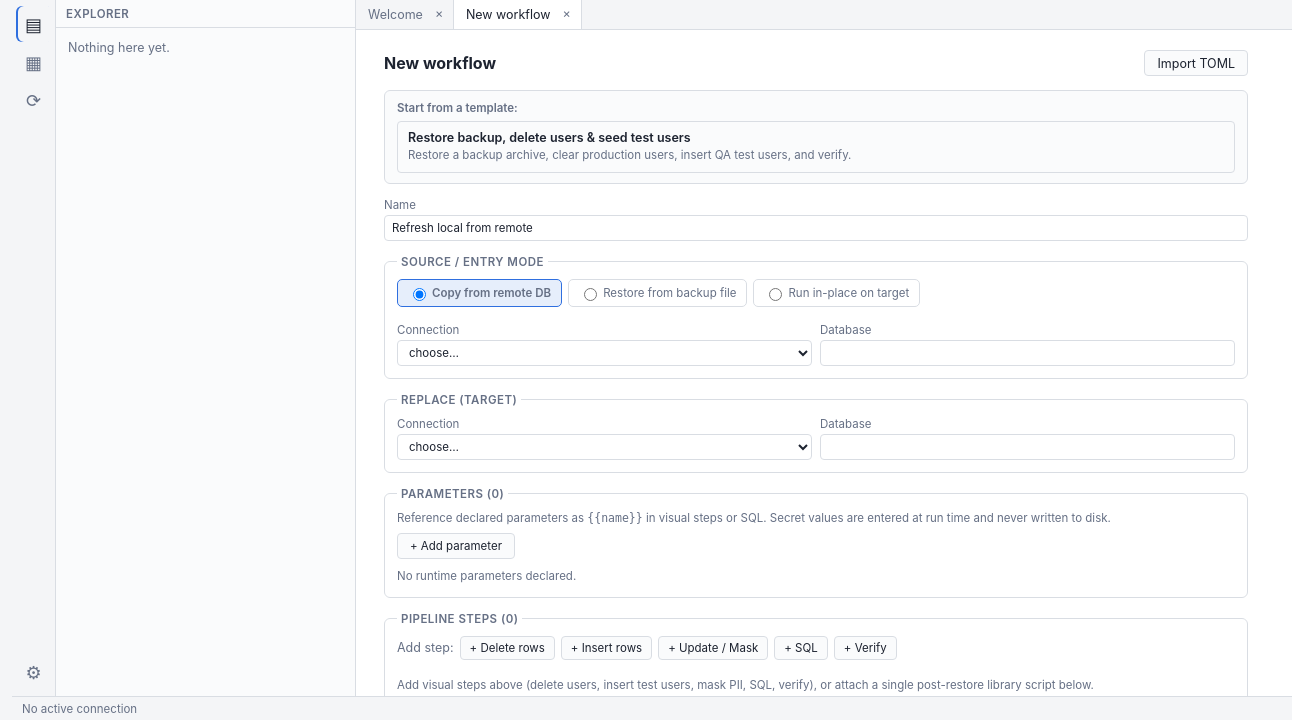
Test case: workflow editor › Staging and Production targets are selectable and show a typed-confirmation warning
Select "Prod (production)" in the dropdown named "Target connection" at (604, 446), box 397,434 -> 812,460
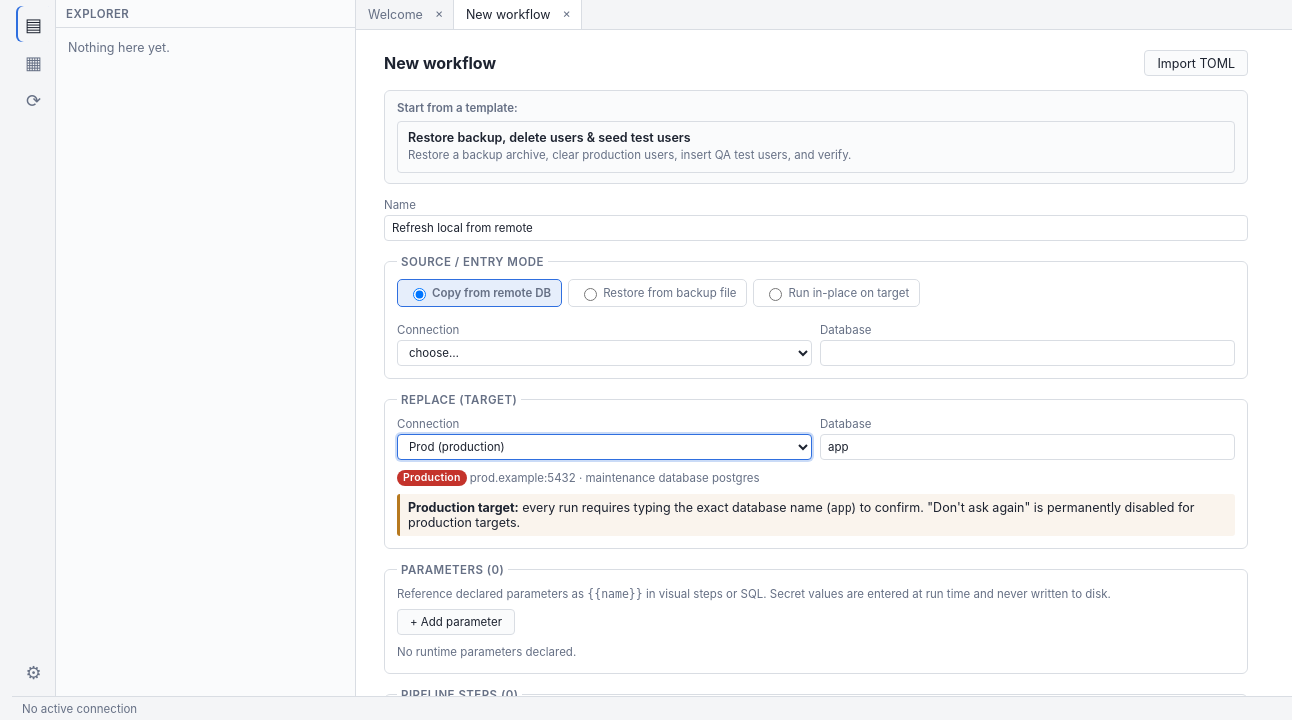
Check: the message shows "typing the exact database name", box 519,500 -> 831,514
